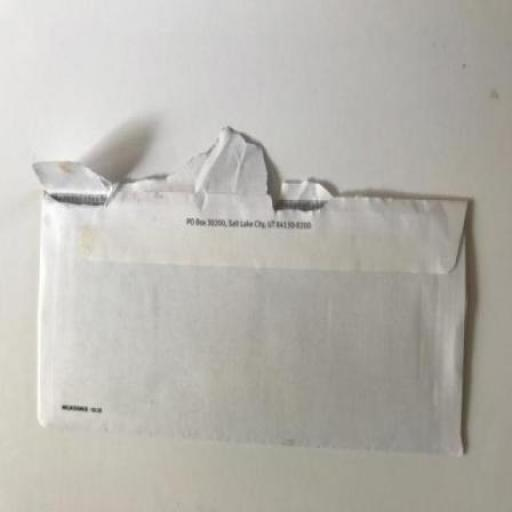paper: (6, 135, 497, 482)
